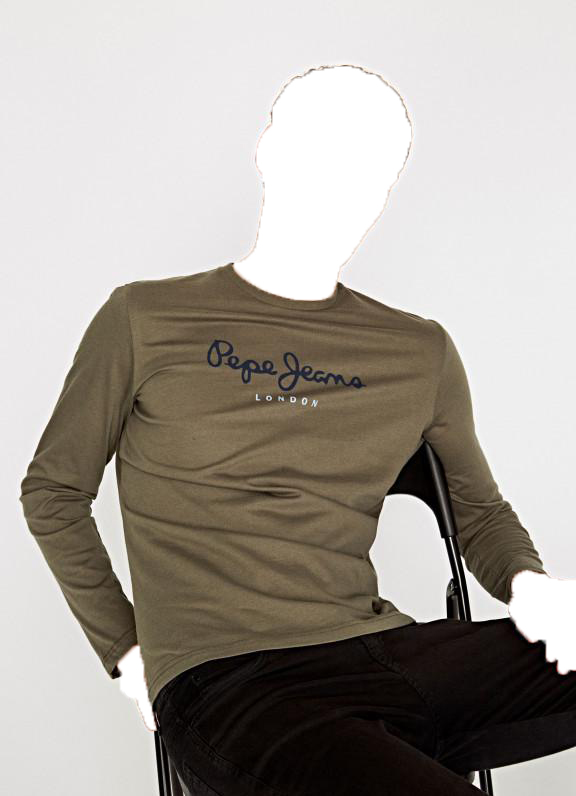teeshirt: (20, 262, 546, 695)
